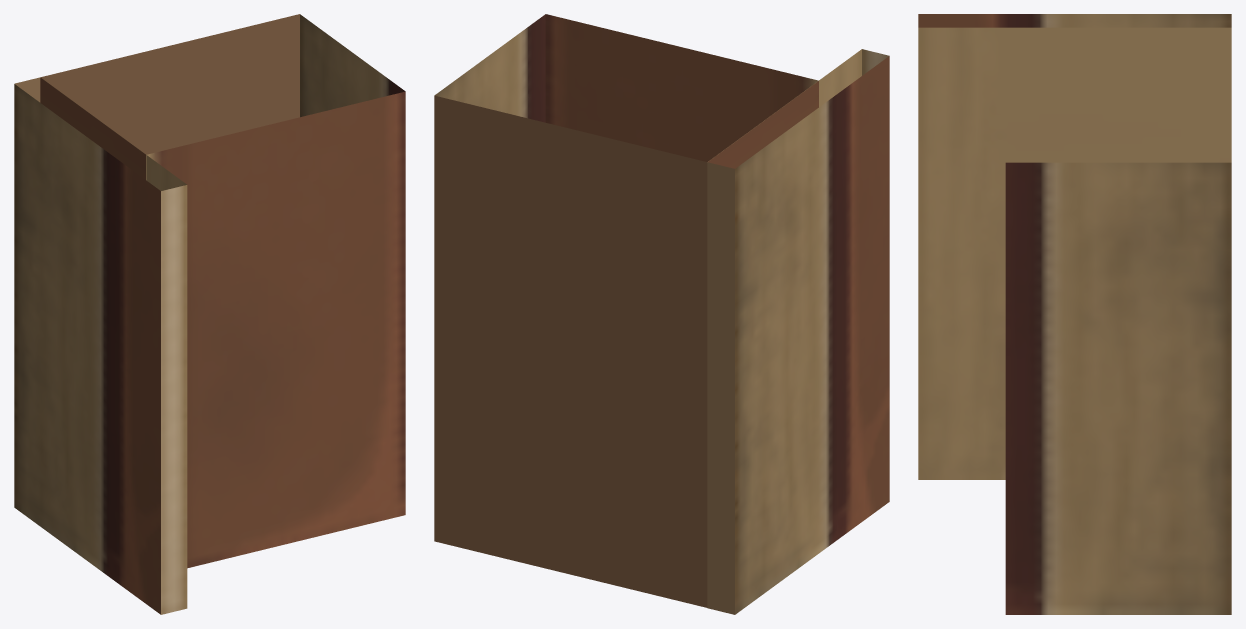
The model's file is section-1.obj.
3 views of the same model, side by side, from view 1: azimuth 30°, elevation 25°; view 2: azimuth 150°, elevation 25°; view 3: azimuth 270°, elevation 25° (orthographic). The views are drawn at different scales.
Size of the model in its own units: 0.6895 by 0.9774 by 0.614.
Materials: 1 (1 with a texture image).
